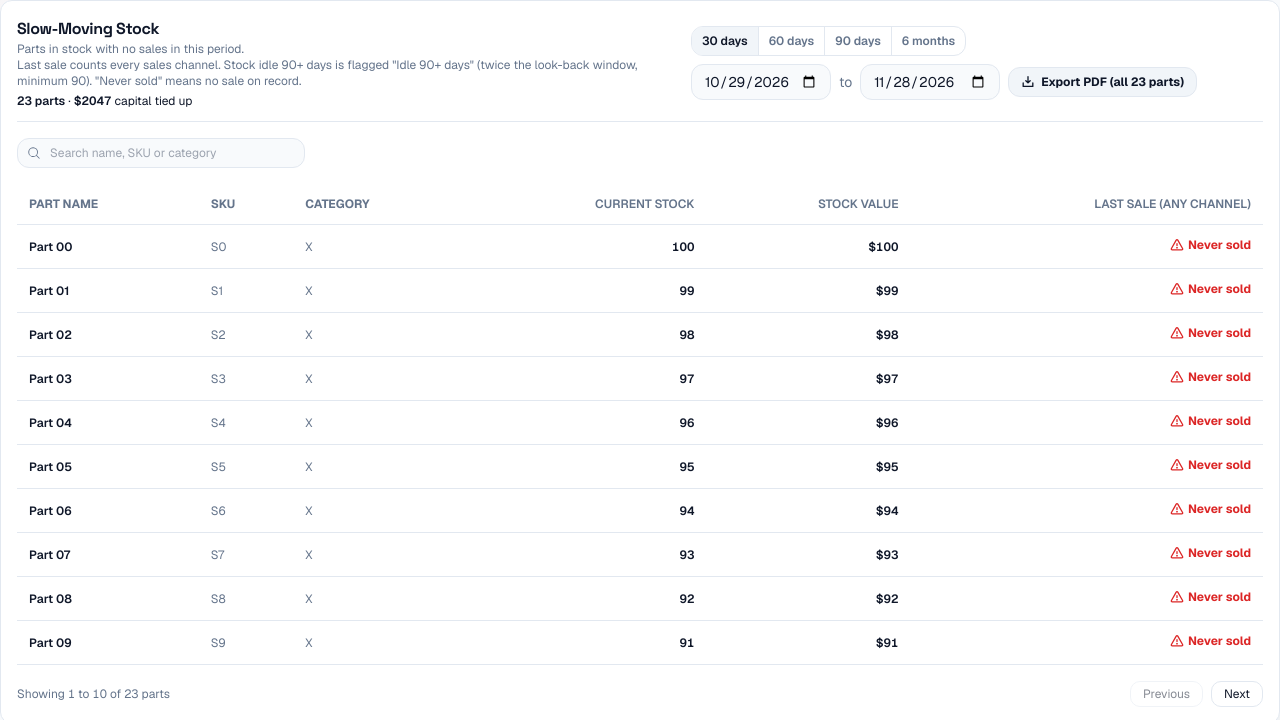
Scenario: Slow-moving stock: pager › pages by 10, shows the live count and clamps when a search shrinks the list
This screenshot has width=1280, height=720.
Step 1. Click the button "Next" → click(1237, 694), box top-left (1211, 681), bottom-right (1263, 707)
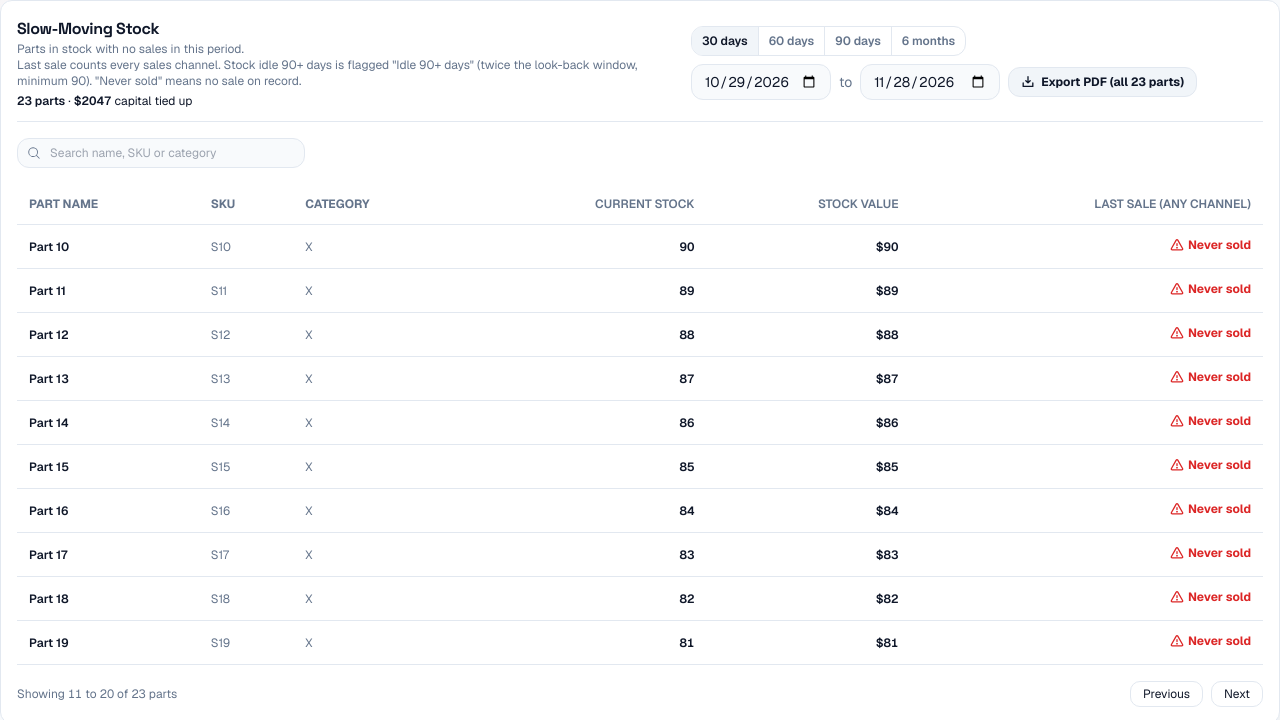
Step 2. Click the button "Next" → click(1237, 694), box top-left (1211, 681), bottom-right (1263, 707)
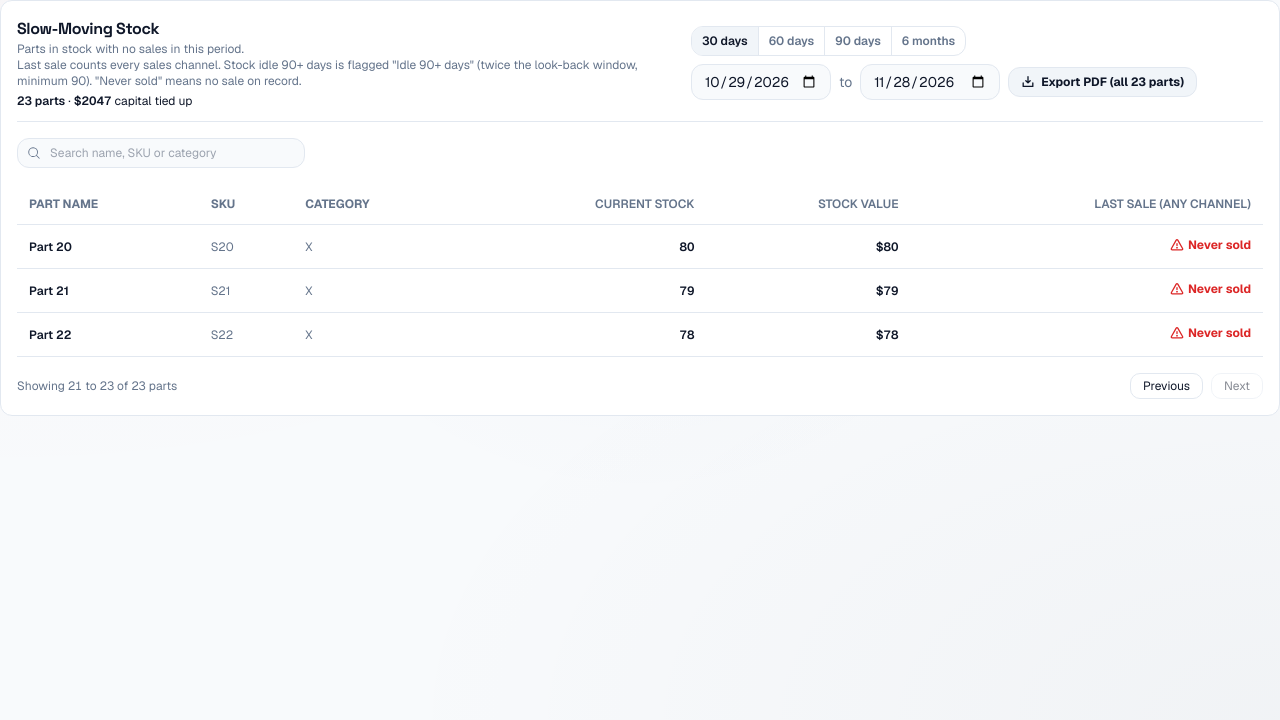
Result: the text "Showing 21 to 23 of 23 parts" is shown at top-left (17, 378), bottom-right (177, 394)
Step 3. Type "part 0" into the search field named "Search parts" → (161, 153), box top-left (17, 138), bottom-right (305, 168)
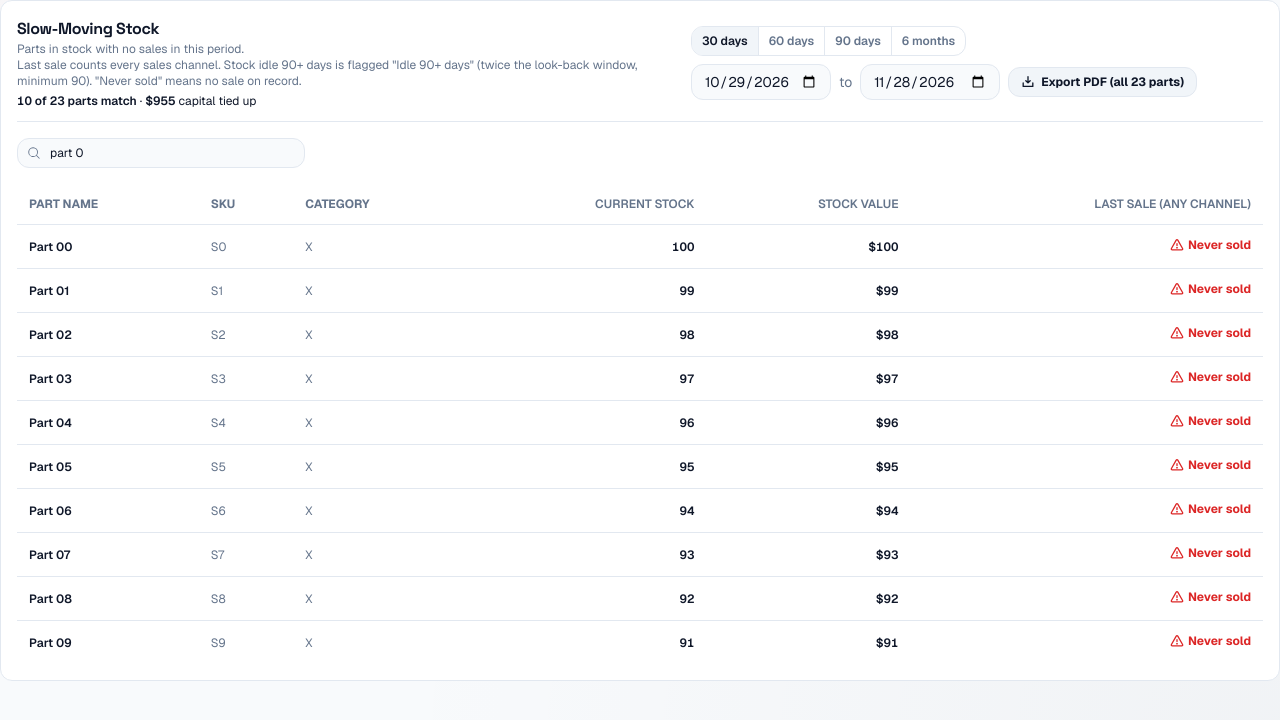
Step 4. Clear the search field named "Search parts" → (161, 153), box top-left (17, 138), bottom-right (305, 168)
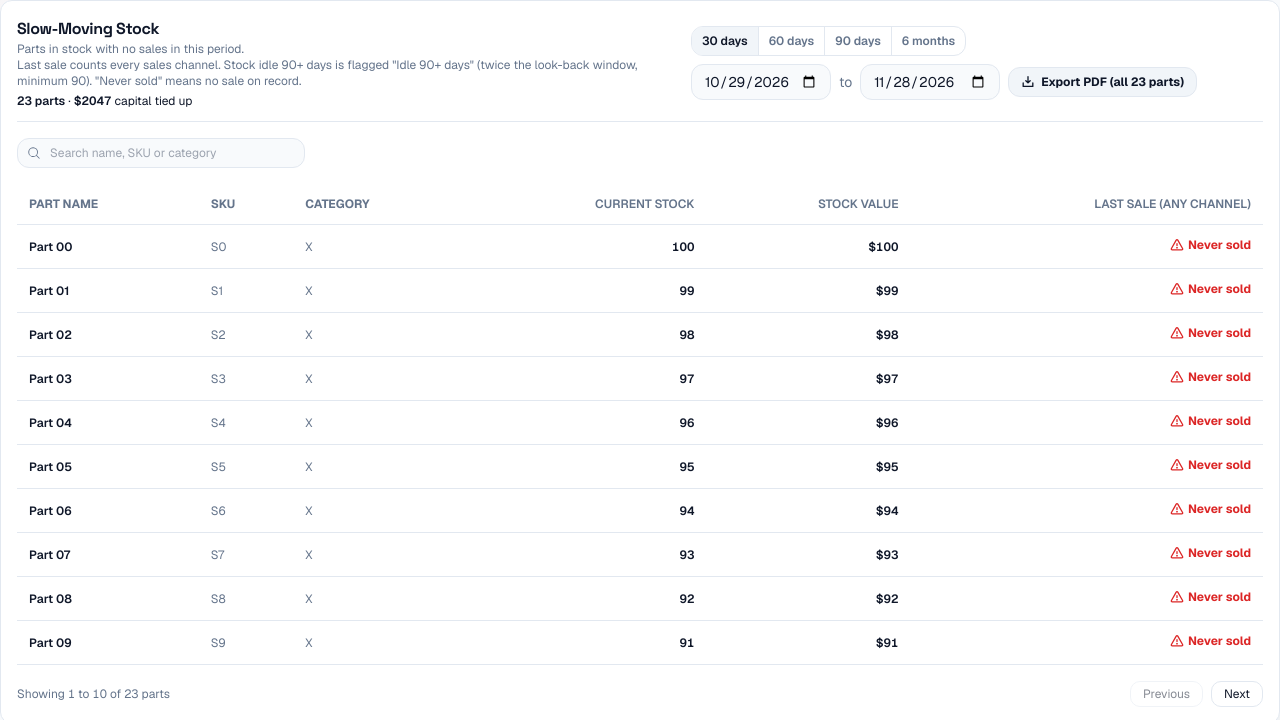
Result: the text "Showing 1 to 10 of 23 parts" is shown at top-left (17, 686), bottom-right (170, 702)
